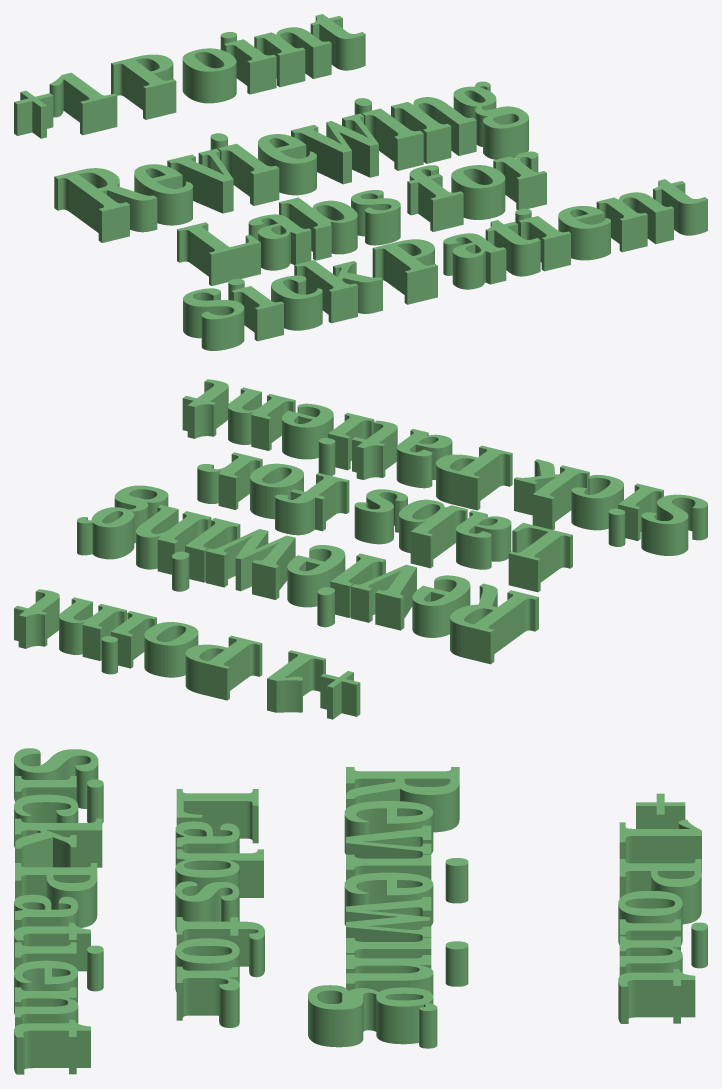
File: posemr.gltf
3 views of the same model, one above another, from view 1: azimuth 30°, elevation 25°; view 2: azimuth 150°, elevation 25°; view 3: azimuth 270°, elevation 25° (orthographic). The views are drawn at different scales.
Visible parts, largest first — view 1: Mesh_Mesh_head_geo001_lambert2SG001; view 2: Mesh_Mesh_head_geo001_lambert2SG001; view 3: Mesh_Mesh_head_geo001_lambert2SG001.
Boxes of the visible parts, box(x1,y1,x2,y2) form: Mesh_Mesh_head_geo001_lambert2SG001: box(14, 14, 707, 350); Mesh_Mesh_head_geo001_lambert2SG001: box(14, 379, 707, 719); Mesh_Mesh_head_geo001_lambert2SG001: box(14, 748, 707, 1074).
Size of the model in its own units: 165 by 10 by 168.
